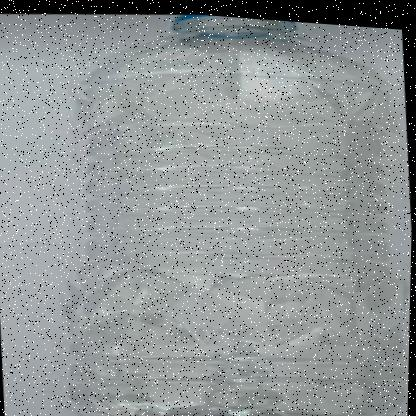open bottle: (32, 3, 410, 145)
